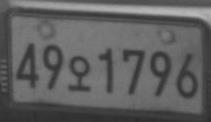1: (95, 48, 119, 93)
4: (16, 43, 39, 87)
6: (176, 53, 198, 98)
7: (122, 48, 144, 95)
9: (149, 51, 172, 97), (42, 44, 64, 89)
오: (68, 56, 91, 92)
